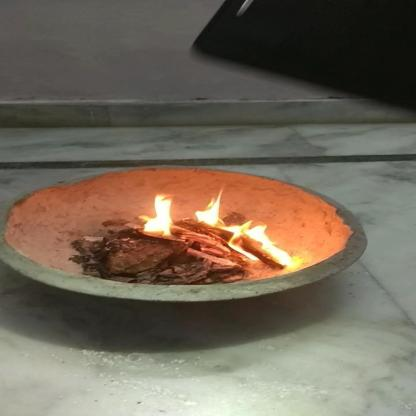fire: (139, 193, 297, 268)
